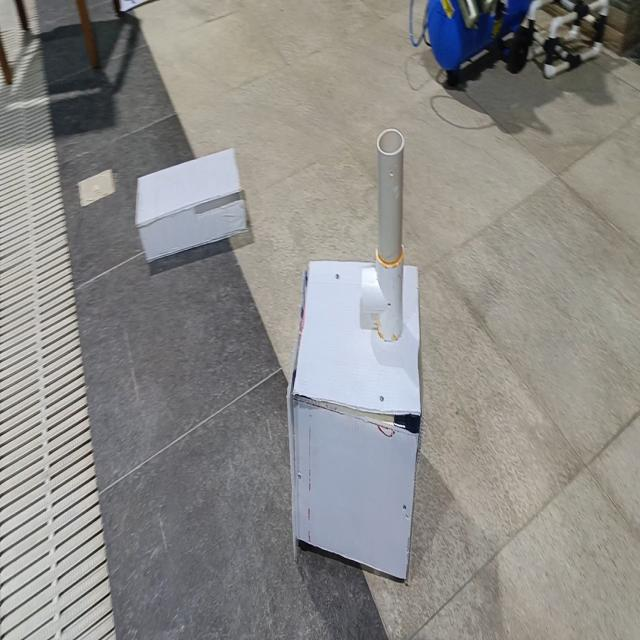Cube: (294, 253, 430, 581)
Cuboid: (134, 145, 248, 264)
